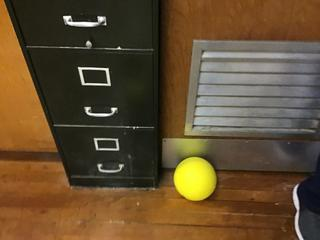power_cell: (172, 152, 220, 207)
